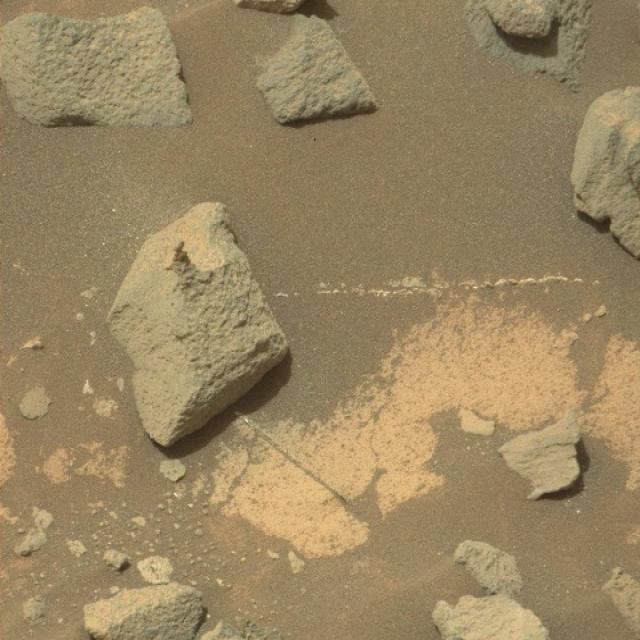mars-rocks: (107, 202, 288, 446), (1, 6, 192, 126), (257, 15, 377, 124), (572, 86, 640, 256), (500, 410, 583, 500), (83, 584, 203, 640)
